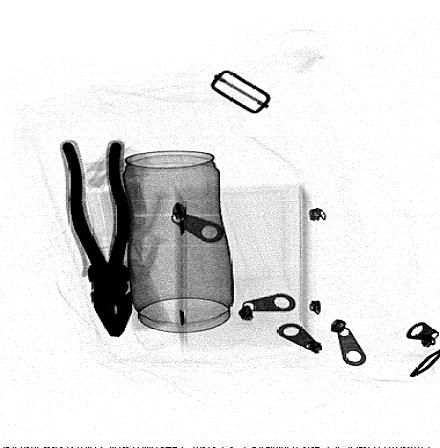Pliers: (62, 140, 133, 339)
